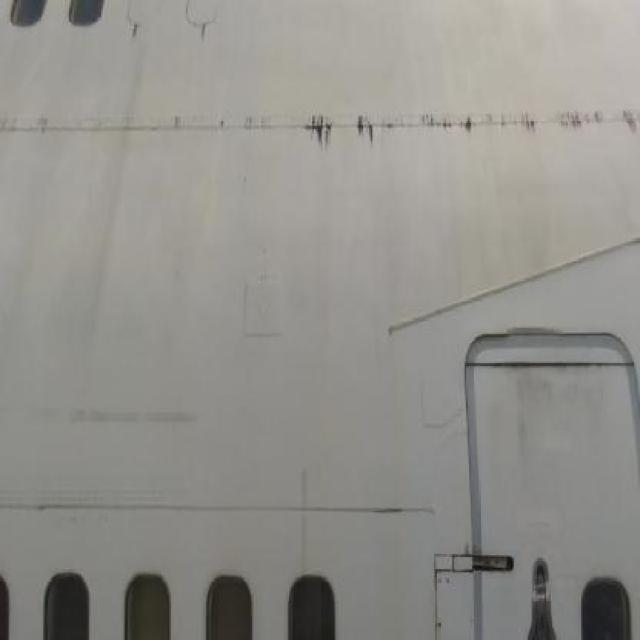Missing-Rivet: (435, 574, 454, 640)
Rust: (292, 88, 640, 172), (128, 21, 142, 45), (200, 28, 209, 48)
Scartch: (5, 381, 226, 454), (503, 373, 626, 464)
